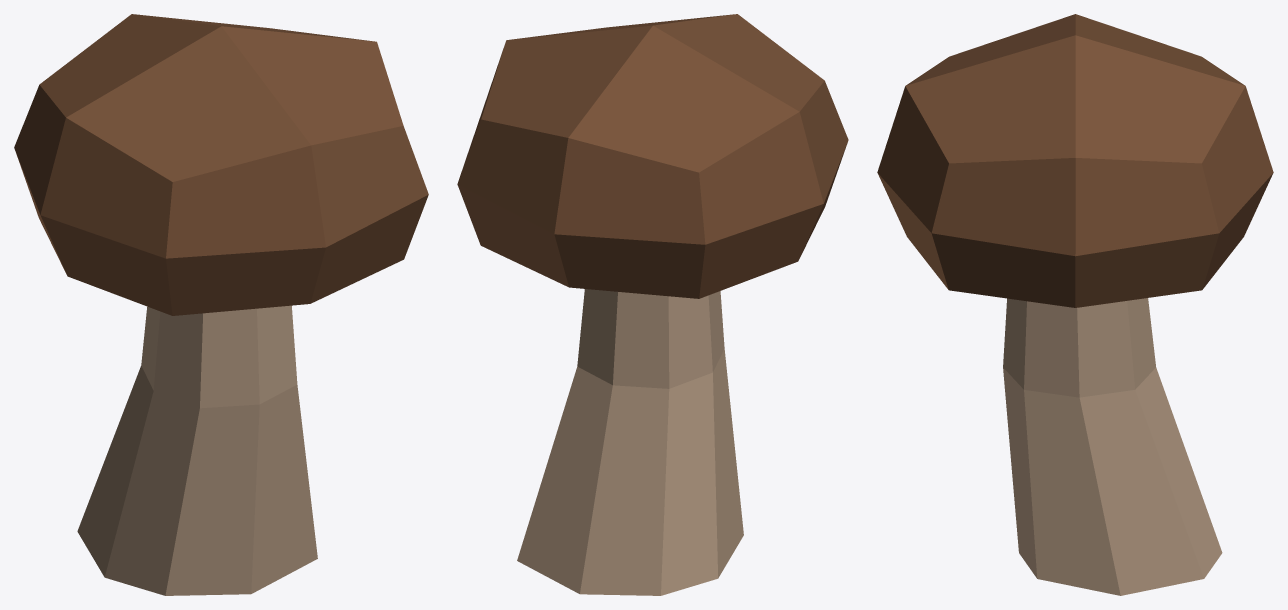
The model's file is Kangastatti.fbx.
3 renders of one model, left to right at view 1: azimuth 30°, elevation 25°; view 2: azimuth 150°, elevation 25°; view 3: azimuth 270°, elevation 25°, orthographic. The views are drawn at different scales.
Visible parts, largest first — view 1: Cap.001, Leg.001; view 2: Cap.001, Leg.001; view 3: Cap.001, Leg.001.
Part boxes in pixels (box(x1,y1,x2,y2)): Cap.001: box(14, 14, 428, 315); Leg.001: box(77, 305, 317, 595); Cap.001: box(457, 14, 848, 298); Leg.001: box(517, 289, 743, 595); Cap.001: box(877, 14, 1273, 307); Leg.001: box(1003, 298, 1222, 595).
Size of the model in its own units: 15.23 by 23.15 by 15.23.
